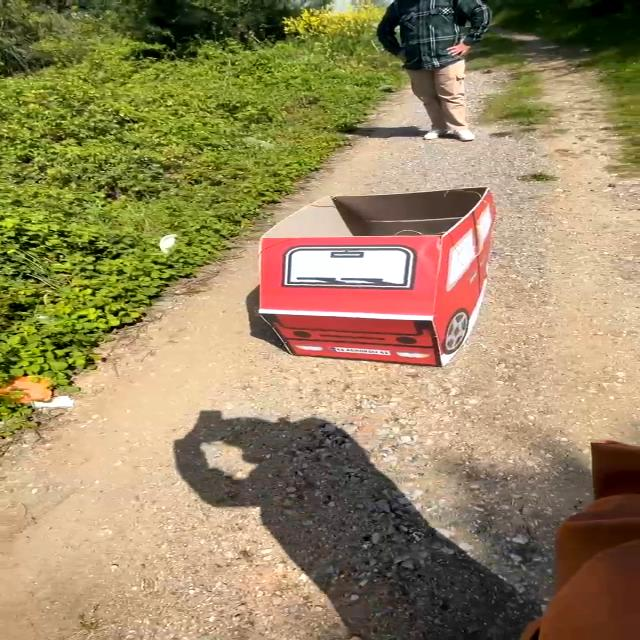red_car: (238, 181, 520, 379)
